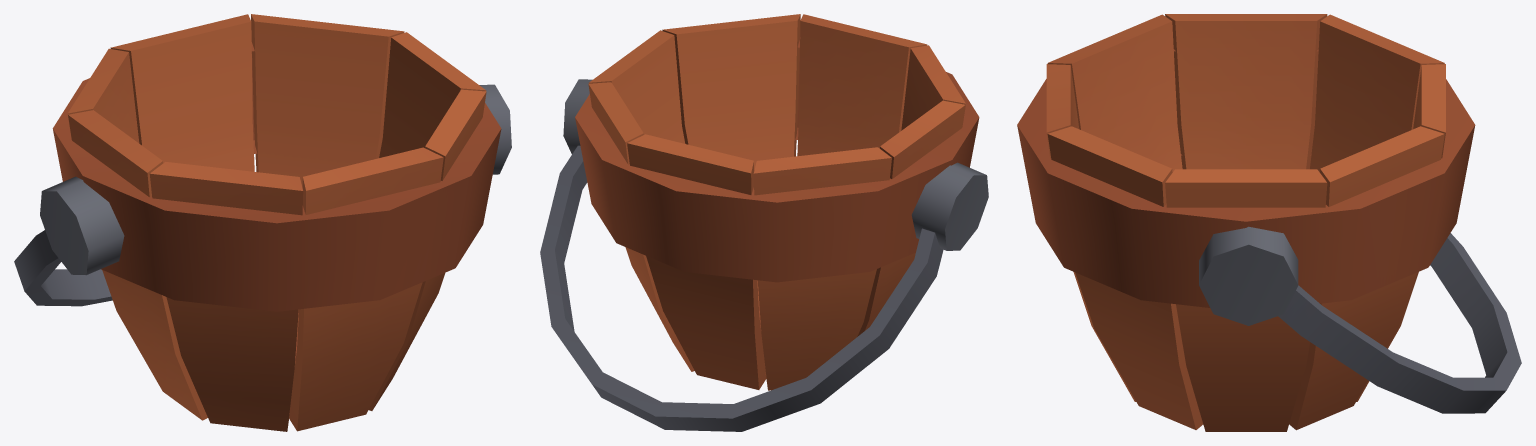
Rendered from SM_Bucket_Wood.fbx.
The picture shows the model from 3 angles, left to right: view 1: azimuth 30°, elevation 25°; view 2: azimuth 150°, elevation 25°; view 3: azimuth 270°, elevation 25°; orthographic projection. The views are drawn at different scales.
Parts seen in each view (by area): view 1: SM_WoodBucket; view 2: SM_WoodBucket; view 3: SM_WoodBucket.
Boxes of the visible parts, x1,y1,x2,y2 form: SM_WoodBucket: [14, 14, 511, 431]; SM_WoodBucket: [540, 14, 988, 431]; SM_WoodBucket: [1017, 14, 1521, 431].
Size of the model in its own units: 72.8 by 45.28 by 71.16.
